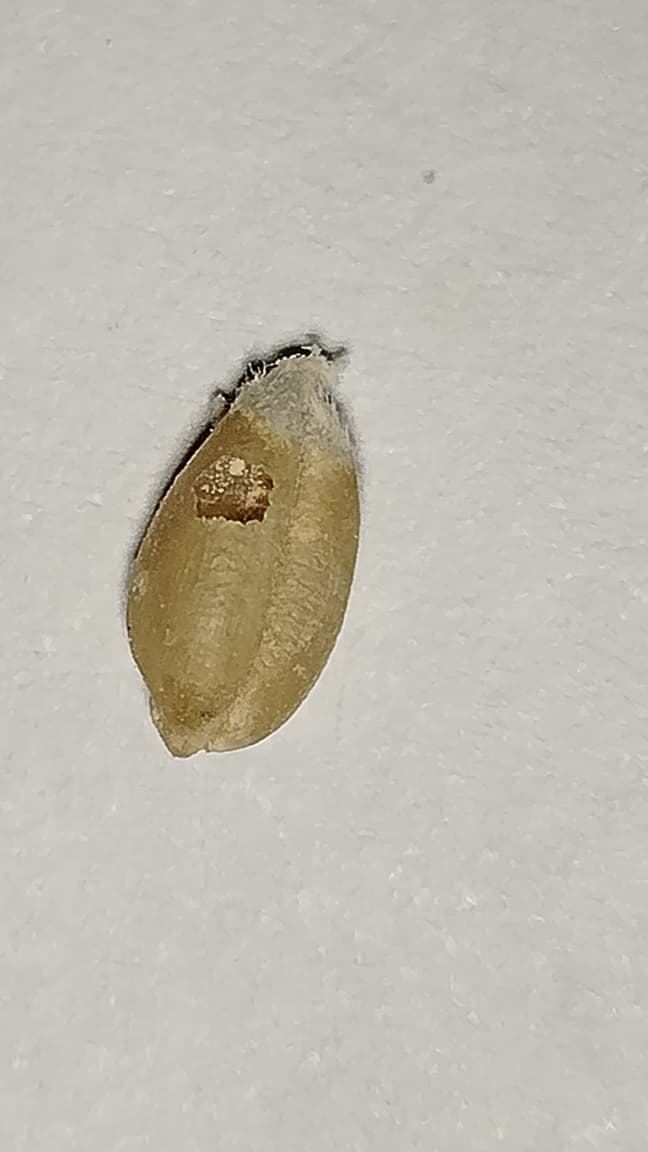damage: (125, 342, 359, 756)
insectdamage: (185, 448, 283, 535)
